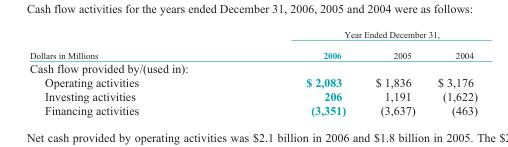table: (28, 28, 476, 116)
table column: (28, 28, 221, 116), (221, 28, 360, 116), (360, 28, 425, 116), (425, 28, 476, 116)
table column header: (28, 28, 476, 60)
table projected row header: (28, 60, 476, 74)
table row: (28, 28, 476, 44), (28, 44, 476, 60), (28, 60, 476, 74), (28, 74, 476, 88), (28, 88, 476, 102), (28, 102, 476, 116)
table spanning cell: (28, 28, 221, 60), (221, 28, 476, 44)
